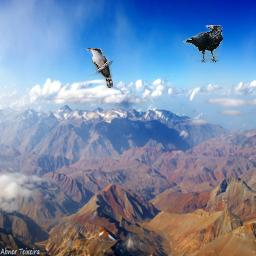Crow: (183, 25, 223, 63)
Cuckoo: (86, 48, 113, 88)
